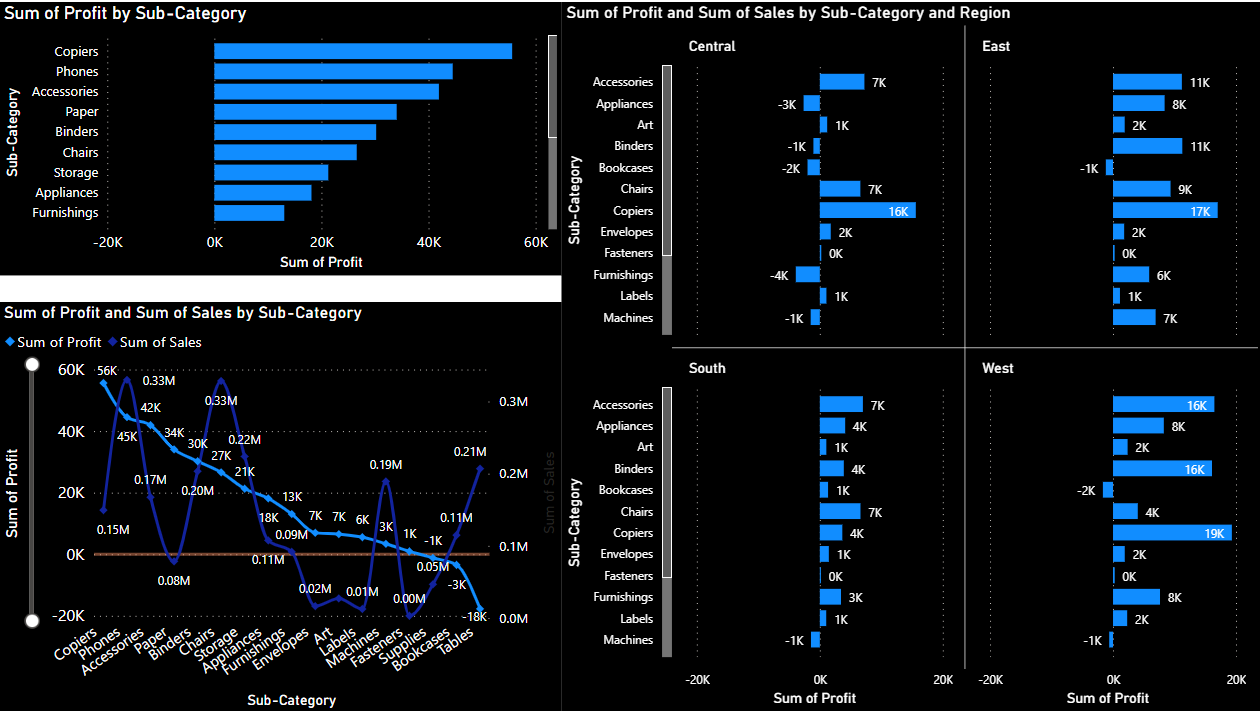

What the dashboard file says about the page in this screenshot:
{"tool":"powerbi","page":{"name":"Page 5","canvas":[1280,720],"ordinal":4},"visuals":[{"type":"clusteredBarChart","fields":{"Category":["Orders.Sub-Category"],"Y":["Sum(Orders.Profit)"]},"box":[0,0,569.4,277.1],"z":0},{"type":"lineChart","fields":{"Category":["Orders.Sub-Category"],"Y":["Sum(Orders.Profit)"],"Y2":["Sum(Orders.Sales)"]},"box":[0,303.7,569.4,416.3],"z":1000},{"type":"clusteredBarChart","fields":{"Category":["Orders.Sub-Category"],"Rows":["Orders.Region"],"Y":["Sum(Orders.Profit)"]},"box":[569.4,0,711.1,720],"z":2000}]}

Visuals, with their boxes in screenshot pixels (x1, y1, x2, y2), scaled from the page's 1280x720 canvas onto the 1260x711 screenshot:
clusteredBarChart - Orders.Sub-Category x Sum(Orders.Profit): bbox=(0, 0, 561, 274)
lineChart - Orders.Sub-Category x Sum(Orders.Profit): bbox=(0, 300, 561, 710)
clusteredBarChart - Orders.Sub-Category x Orders.Region: bbox=(561, 0, 1259, 710)
